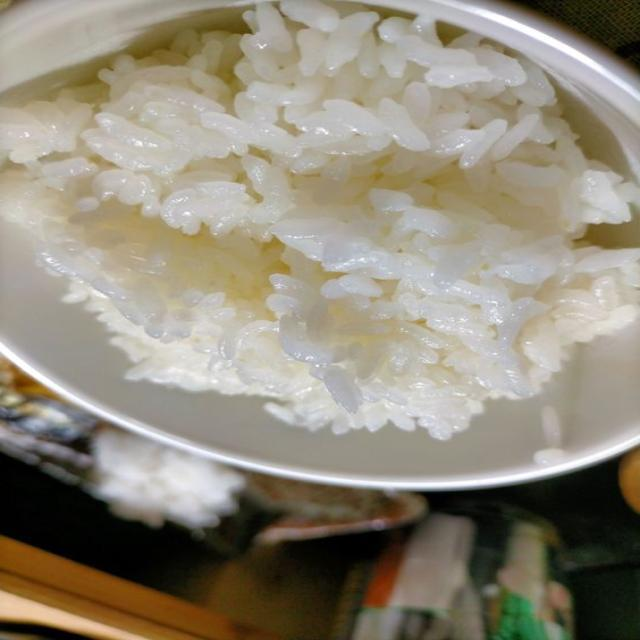nasi_putih: (29, 9, 617, 446)
